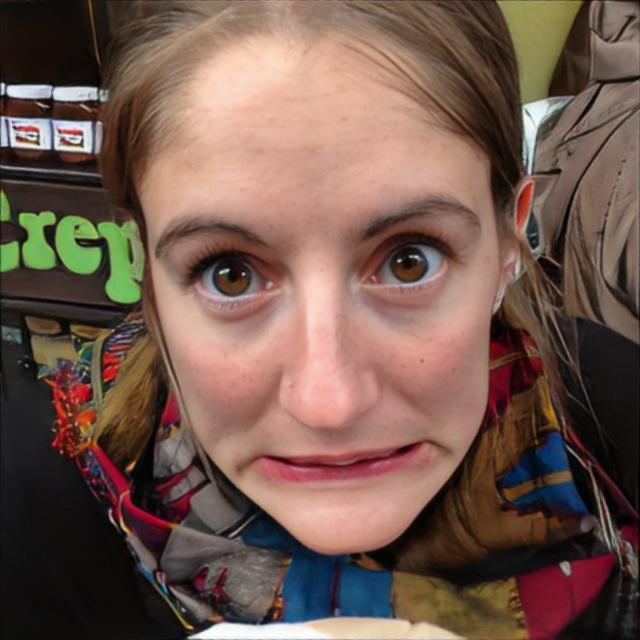surprise: (126, 0, 505, 557)
